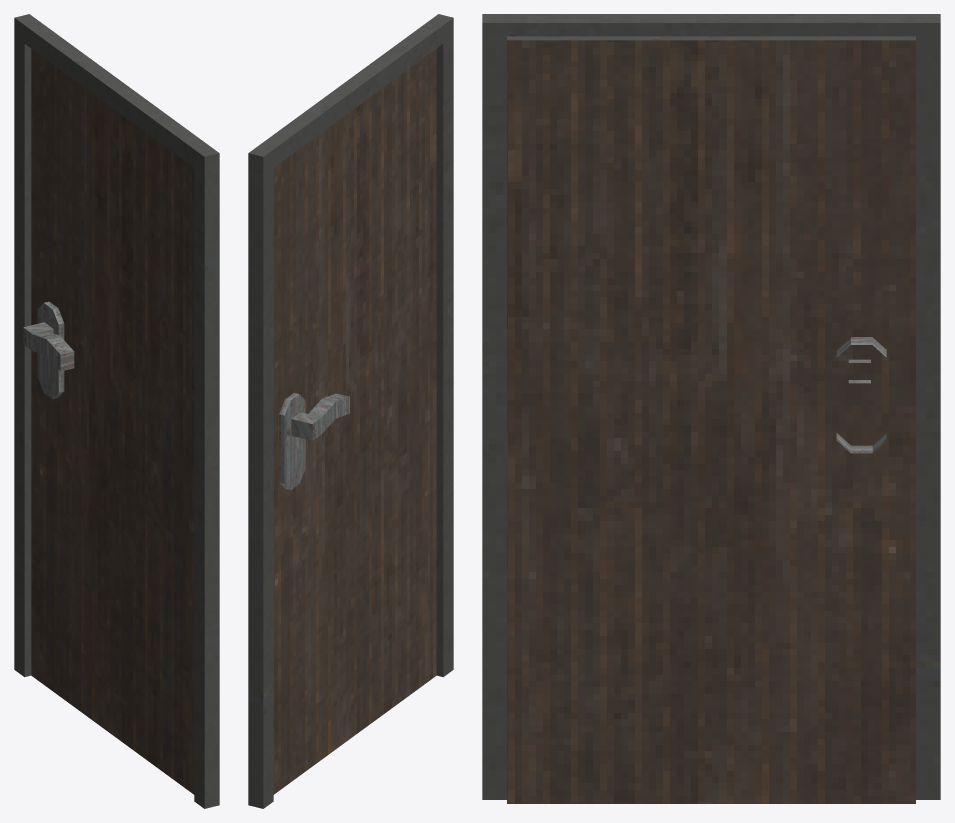
Rendered from Door.gltf.
The picture shows the model from 3 angles, left to right: view 1: azimuth 30°, elevation 25°; view 2: azimuth 150°, elevation 25°; view 3: azimuth 270°, elevation 25°; orthographic projection. The views are drawn at different scales.
Parts seen in each view (by area): view 1: Door; view 2: Door; view 3: Door.
Part boxes in pixels (x1,y1,x2,y2): Door: [14, 14, 219, 808]; Door: [248, 14, 453, 808]; Door: [482, 14, 940, 803].
Bounding box in the file's own units: 0.1333 × 2.06 × 1.09.
Materials: 1 (1 with a texture image).
